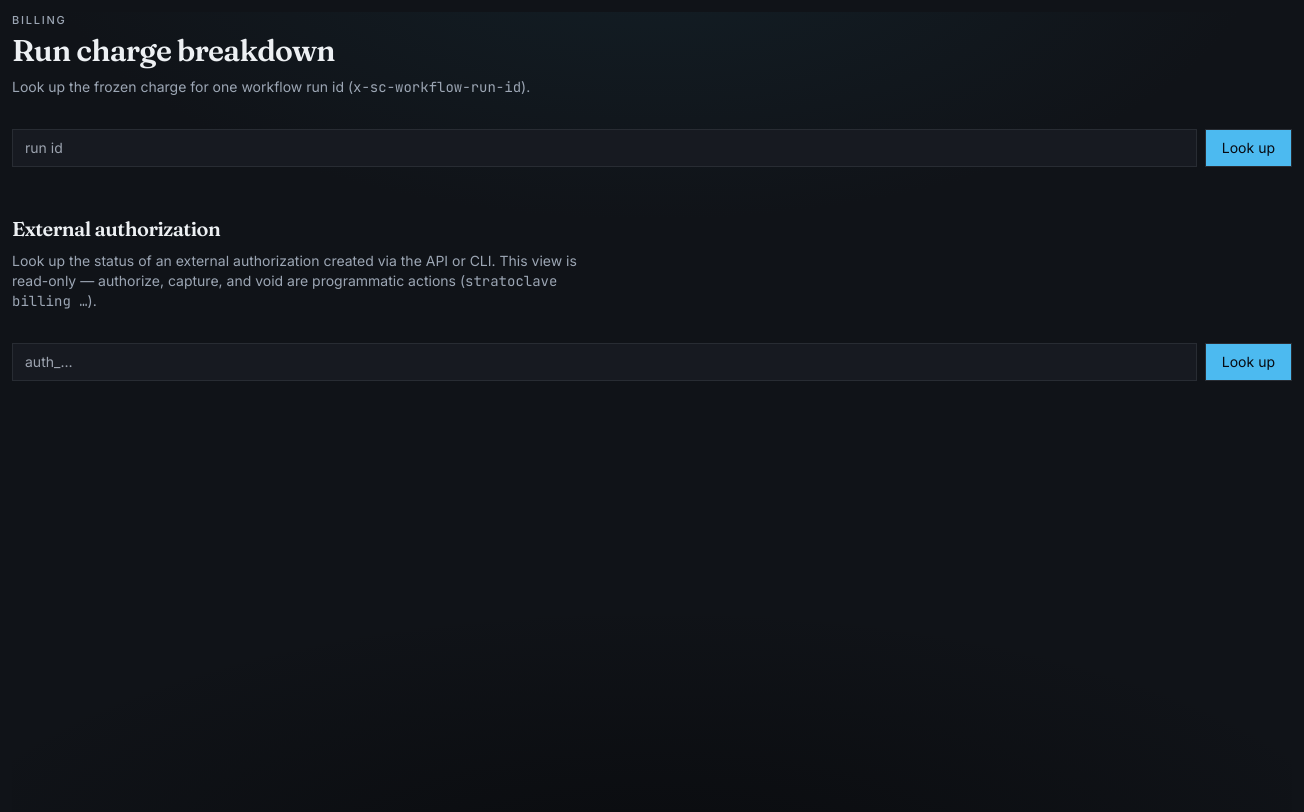
Test: MeBilling — authorization lookup error handling (authcap / PENDING protocol) › renders status=authorized from a successful lookup
In the field named "authorization id": (604, 362) [12, 342, 1197, 380], type "auth_abc"
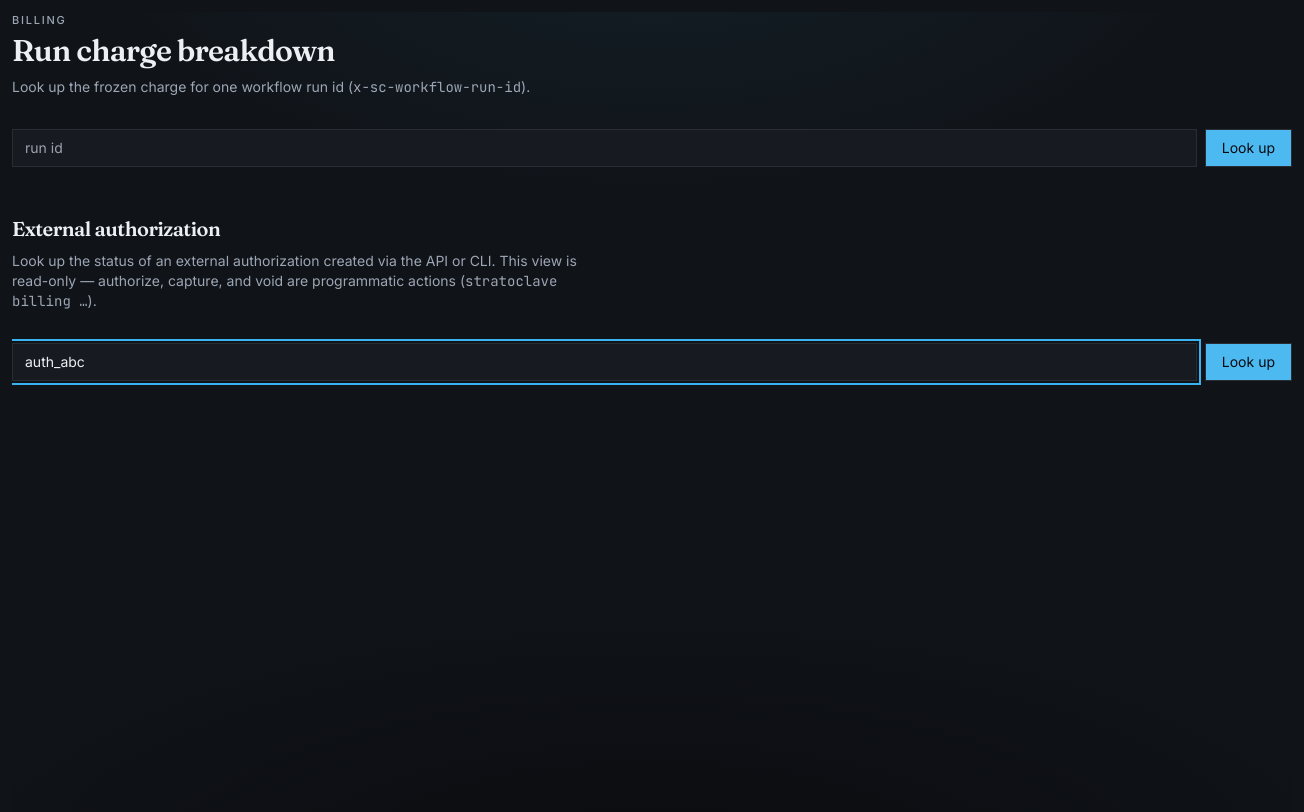
Click the 2nd button "Look up": (1248, 362) [1205, 342, 1292, 380]
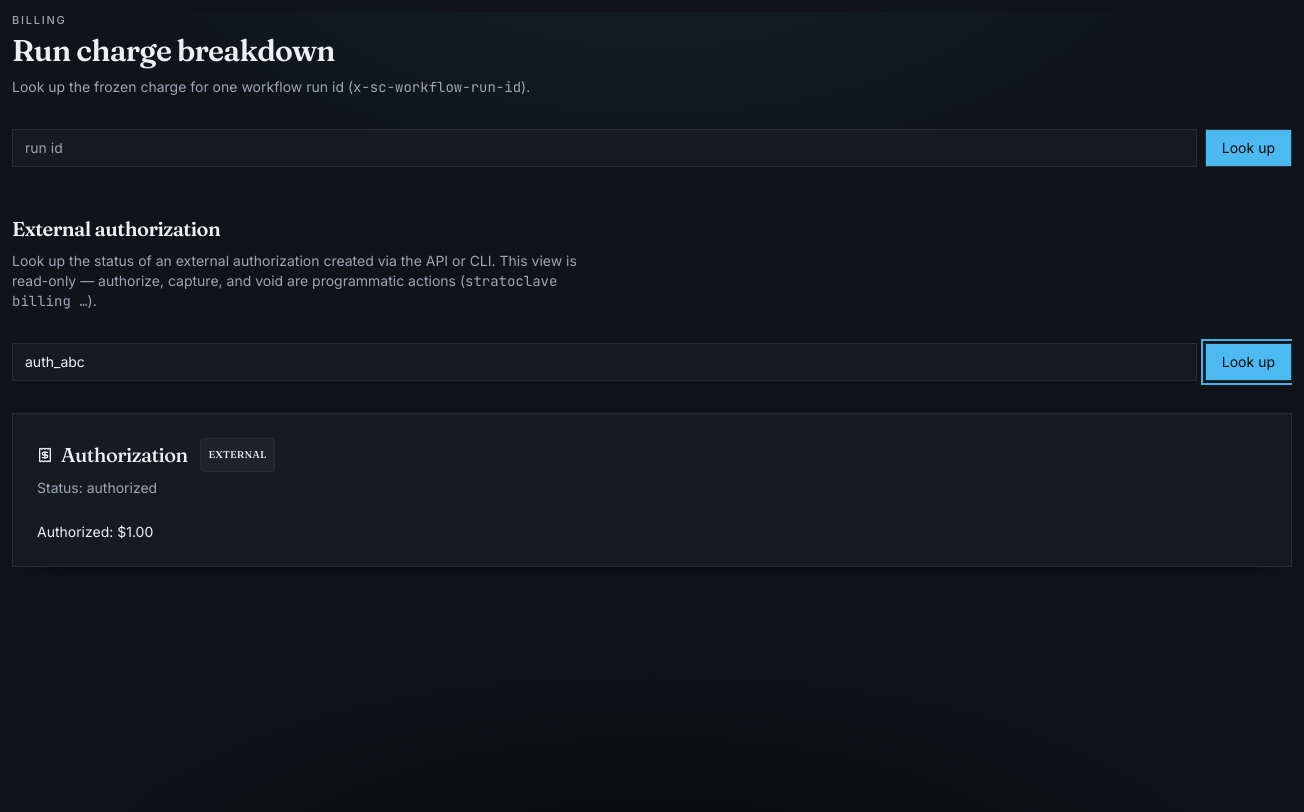
Check: the text with test id "authorization-status" shows "authorized", box [87, 478, 157, 496]
